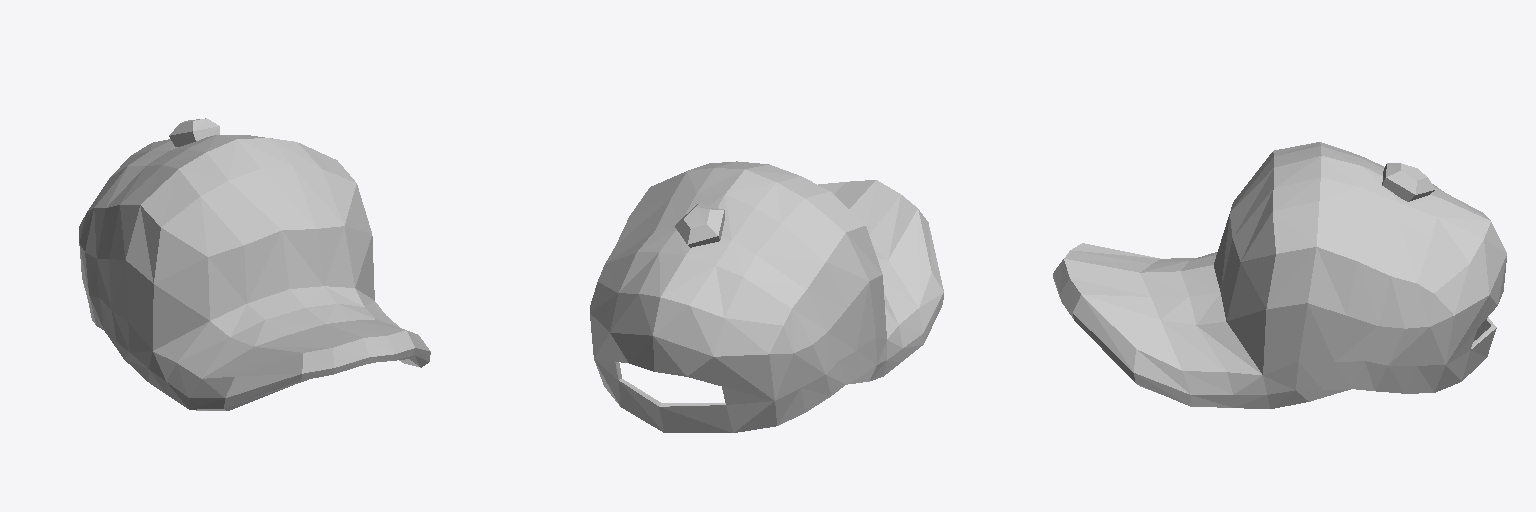
The model's file is gorra dipper.obj.
The picture shows the model from 3 angles: view 1: azimuth 30°, elevation 25°; view 2: azimuth 150°, elevation 25°; view 3: azimuth 270°, elevation 25°; orthographic projection.
Visible parts, largest first — view 1: Dipper_hat; view 2: Dipper_hat; view 3: Dipper_hat.
Part boxes in pixels (left/top/right/bottom): Dipper_hat: left=79, top=118, right=430, bottom=410; Dipper_hat: left=590, top=161, right=943, bottom=432; Dipper_hat: left=1053, top=142, right=1506, bottom=408.
Size of the model in its own units: 1.02 by 0.8355 by 1.7.